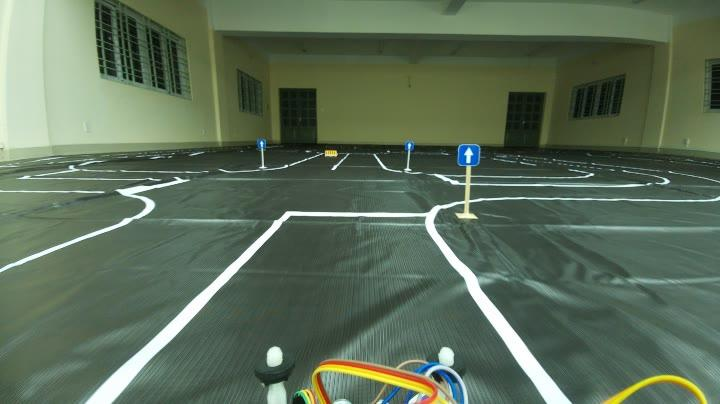onewayroad: (452, 140, 481, 168), (256, 136, 267, 146), (406, 140, 413, 152)
roadblock: (322, 148, 340, 160)
